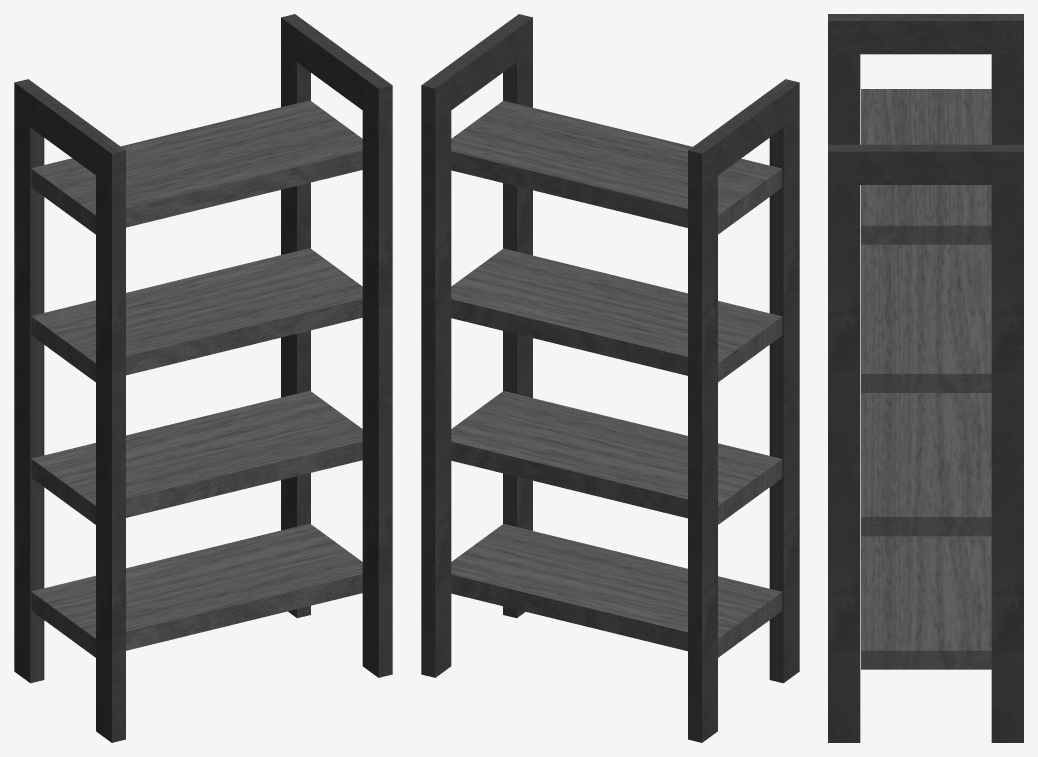
Rendered from Shelf 2.fbx.
3 views of the same model, side by side, from view 1: azimuth 30°, elevation 25°; view 2: azimuth 150°, elevation 25°; view 3: azimuth 270°, elevation 25° (orthographic).
Visible parts, largest first — view 1: Cube.002, Cube.011, Cube.001, Cube.006, Cube.005, Cube.007; view 2: Cube.002, Cube.011, Cube.006, Cube.001, Cube.005, Cube.007; view 3: Cube.011, Cube.006, Cube.005, Cube.001, Cube.007, Cube.002.
Boxes of the visible parts, bbox=[...] form: Cube.002: bbox=[14, 79, 125, 742]; Cube.011: bbox=[281, 14, 392, 677]; Cube.001: bbox=[31, 523, 362, 657]; Cube.006: bbox=[31, 248, 362, 382]; Cube.005: bbox=[31, 390, 362, 524]; Cube.007: bbox=[31, 100, 362, 234]; Cube.002: bbox=[688, 79, 799, 742]; Cube.011: bbox=[421, 14, 532, 677]; Cube.006: bbox=[451, 248, 782, 382]; Cube.001: bbox=[451, 524, 782, 657]; Cube.005: bbox=[451, 391, 782, 524]; Cube.007: bbox=[451, 100, 782, 234]; Cube.011: bbox=[828, 144, 1023, 742]; Cube.006: bbox=[861, 244, 991, 392]; Cube.005: bbox=[861, 393, 991, 536]; Cube.001: bbox=[861, 536, 991, 669]; Cube.007: bbox=[861, 89, 991, 244]; Cube.002: bbox=[828, 14, 1023, 144].
Size of the model in its own units: 653 by 1310 by 393.
